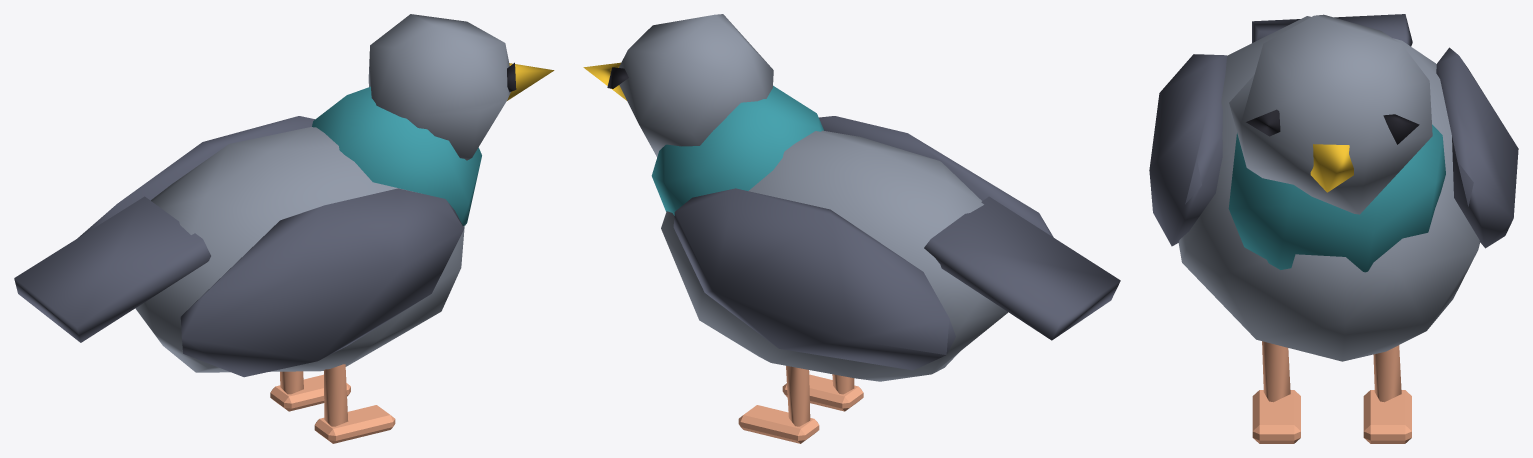
File: pigeon.glb
3 views of the same model, side by side, from view 1: azimuth 30°, elevation 25°; view 2: azimuth 150°, elevation 25°; view 3: azimuth 270°, elevation 25° (orthographic). The views are drawn at different scales.
Visible parts, largest first — view 1: pigeon; view 2: pigeon; view 3: pigeon.
Part boxes in pixels (bbox=[...]): pigeon: bbox=[14, 14, 554, 443]; pigeon: bbox=[583, 14, 1120, 443]; pigeon: bbox=[1149, 14, 1518, 443].
Bounding box in the file's own units: 0.5328 × 0.3728 × 0.2661.
Materials: 1 (1 with a texture image).
